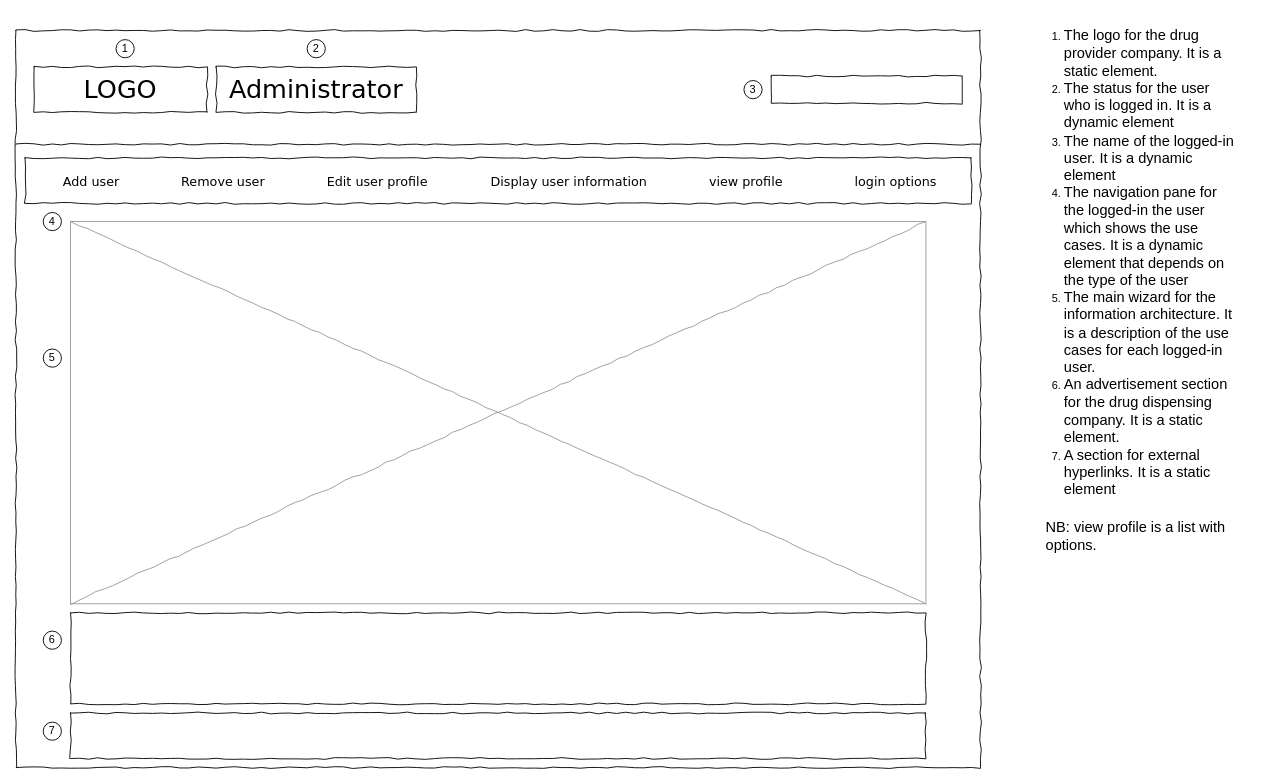
Image size: 1279x784. Some labels were removed from this diagram. Each missing label, with the centre of its shape:
"At drug consultancy, your health is our ultimate focus" belongs at point (498, 658).
"External Links" belongs at point (498, 735).
"Mr Xi Jong" belongs at point (866, 89).
